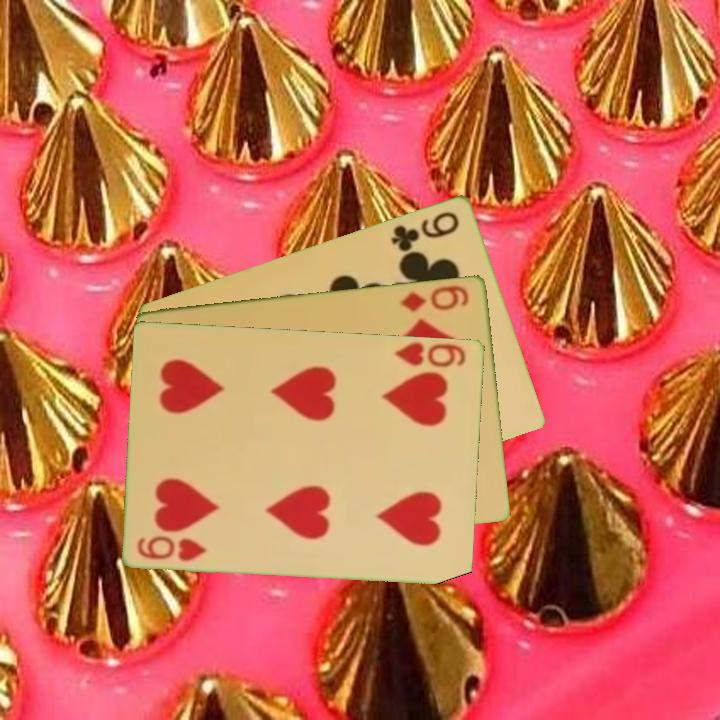6d: (397, 281, 472, 315)
6h: (134, 532, 210, 564), (392, 339, 469, 370)
9c: (387, 207, 462, 254)
